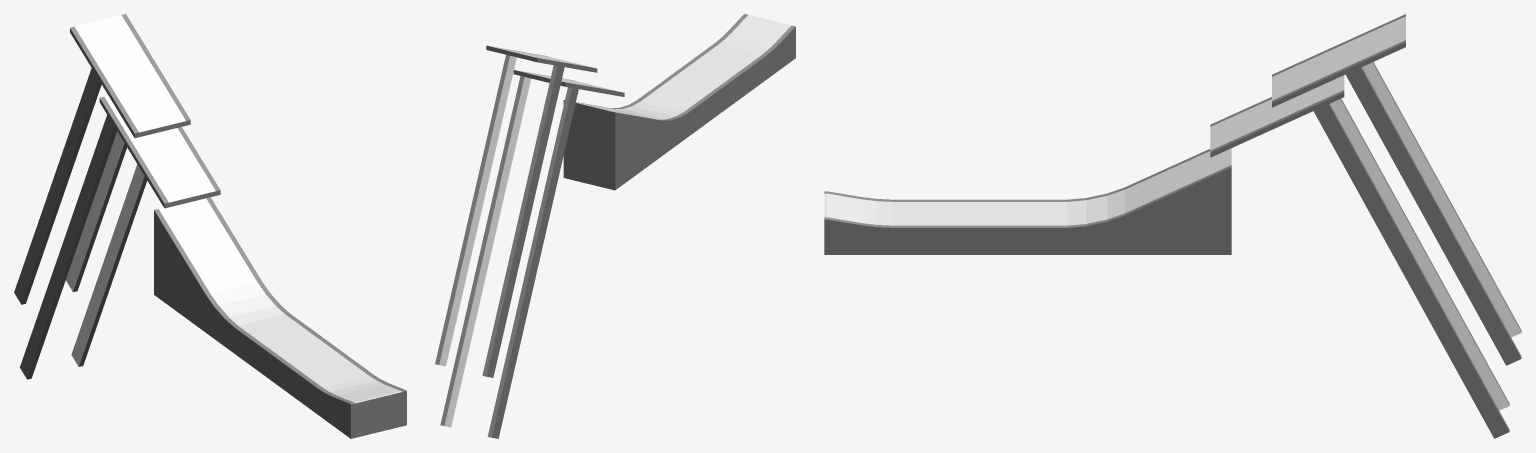
The model's file is fallschunk.fbx.
3 renders of one model, left to right at view 1: azimuth 30°, elevation 25°; view 2: azimuth 150°, elevation 25°; view 3: azimuth 270°, elevation 25°, orthographic. The views are drawn at different scales.
Visible parts, largest first — view 1: fallschunk; view 2: fallschunk; view 3: fallschunk.
Boxes of the visible parts, x1=… form: fallschunk: x1=14, y1=14, x2=406, y2=438; fallschunk: x1=435, y1=14, x2=795, y2=438; fallschunk: x1=824, y1=14, x2=1521, y2=438.
Size of the model in its own units: 25 by 260 by 163.
